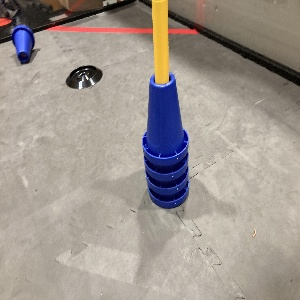Blue_1: (11, 23, 35, 63)
Blue_4: (141, 73, 190, 208)
